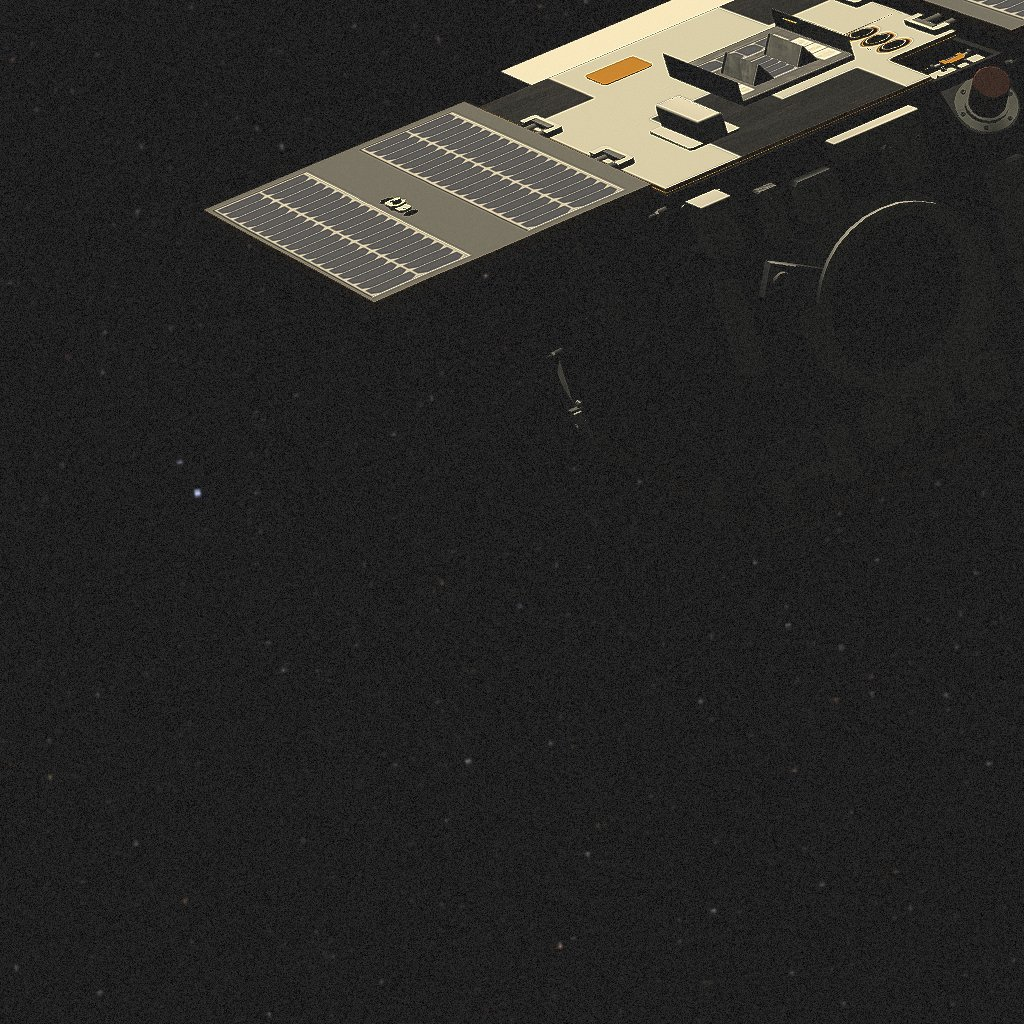proba_2: (204, 0, 1024, 537)
